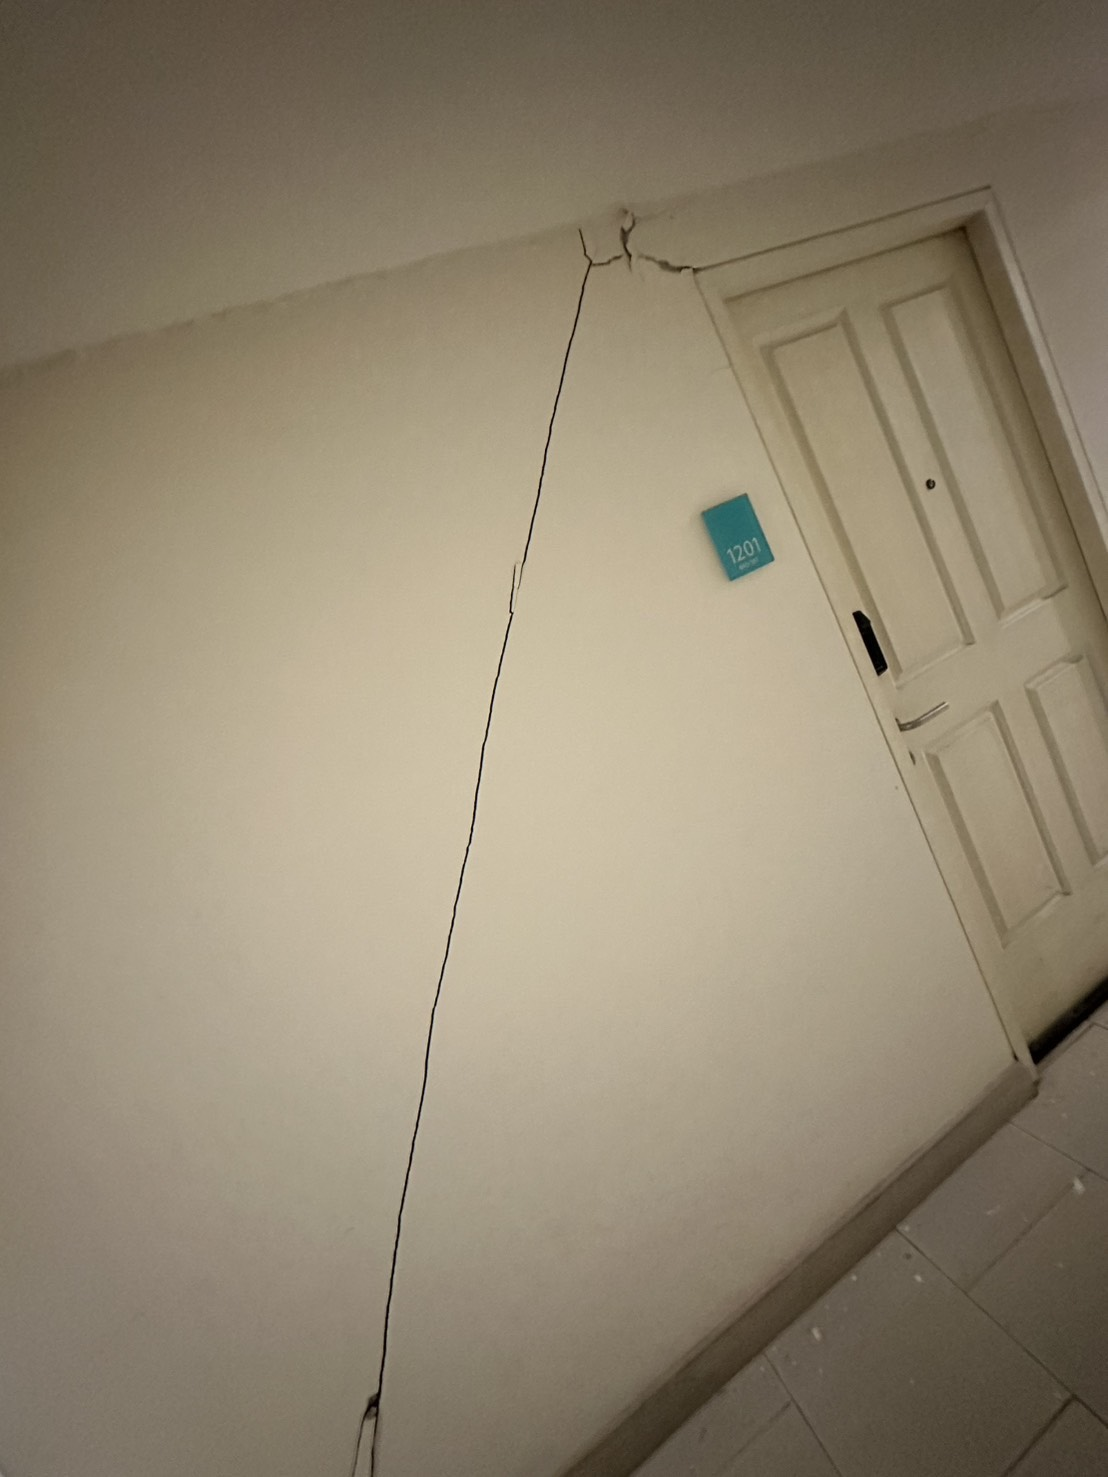Medium: (304, 754, 498, 1399)
